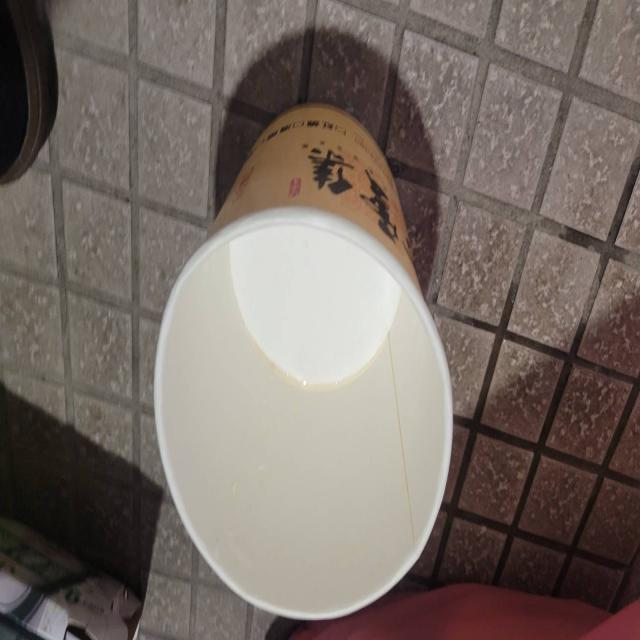Paper bowl: (138, 74, 478, 625), (0, 263, 503, 549)
